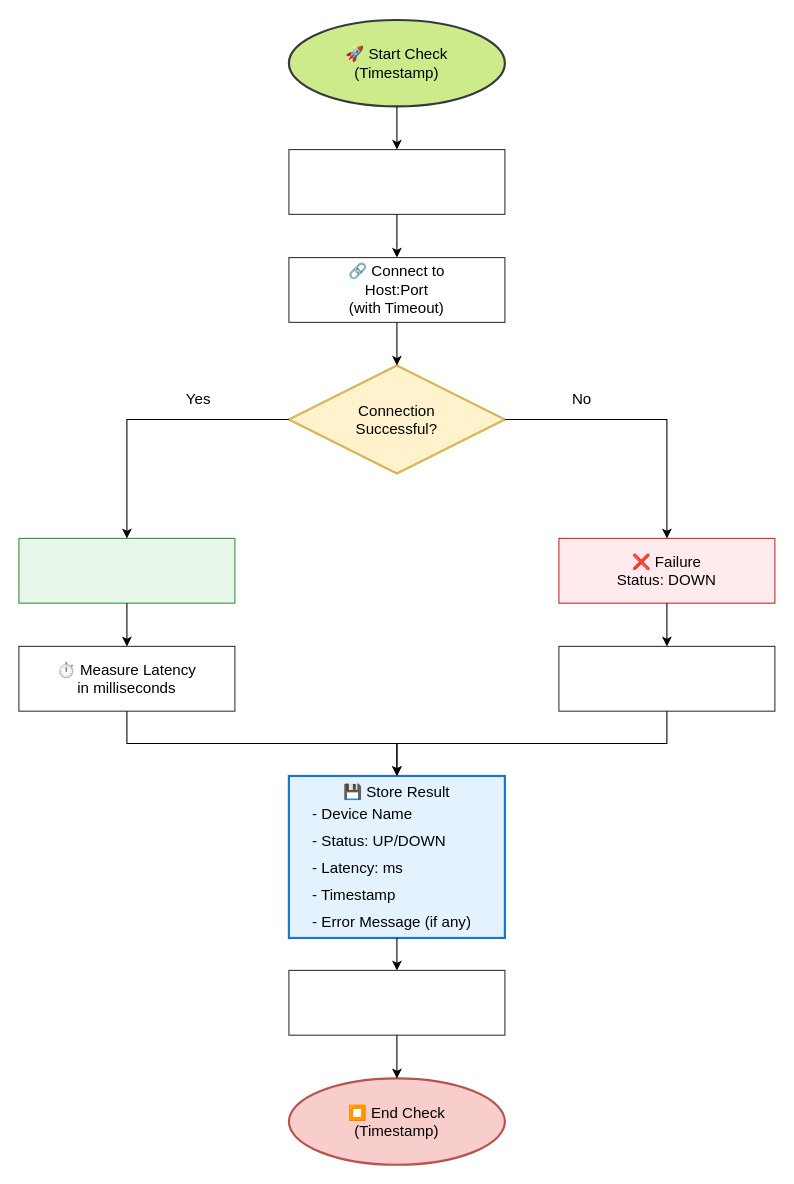
The diagram is 794 pixels wide and 1184 high, and some of its shapes have lost their labels. The shapes that lost their labels are listed below. From the top down, each one's box as (x1, y1, x2, y2) in pixels, then its label:
(288, 148, 505, 214): 🔌 Create TCP Socket
(18, 537, 235, 603): ✅ Success Status: UP
(558, 645, 775, 711): 📝 Capture Error Message
(288, 969, 505, 1035): 📊 Update Metrics (Micrometer Gauges)
